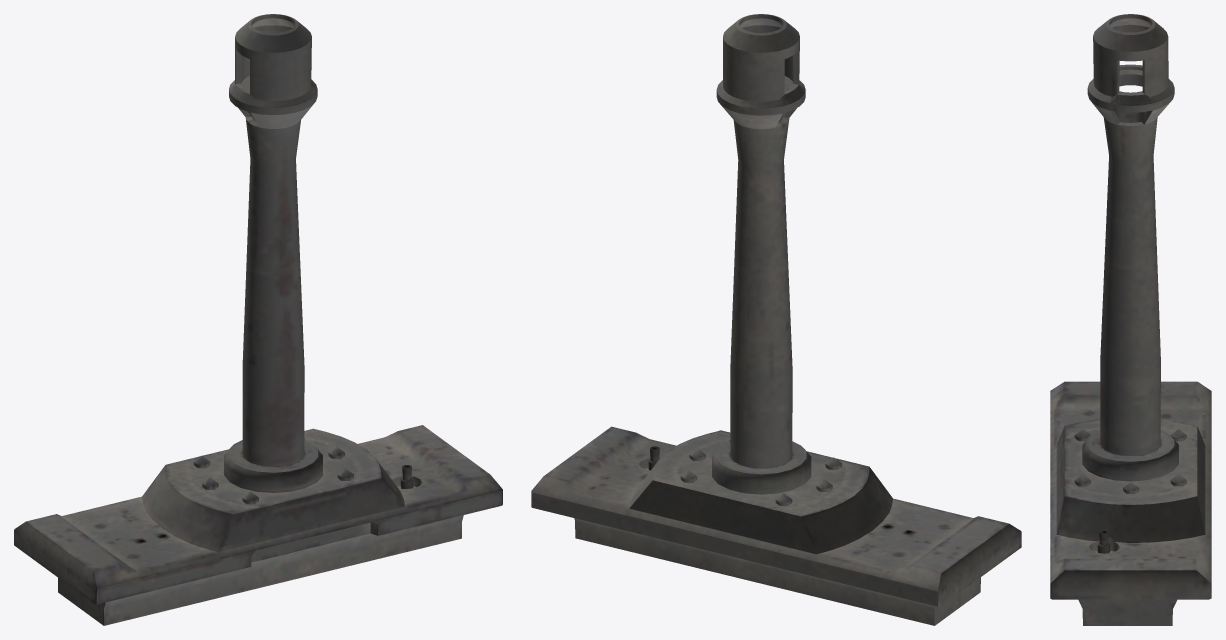
Rendered from Gun_04.glb.
3 renders of one model, left to right at view 1: azimuth 30°, elevation 25°; view 2: azimuth 150°, elevation 25°; view 3: azimuth 270°, elevation 25°, orthographic. The views are drawn at different scales.
Visible parts, largest first — view 1: set_0_group_0; view 2: set_0_group_0; view 3: set_0_group_0.
Part boxes in pixels (x1,y1,x2,y2): set_0_group_0: [14, 14, 502, 625]; set_0_group_0: [531, 14, 1021, 625]; set_0_group_0: [1050, 14, 1211, 625].
Size of the model in its own units: 1.6 by 2.01 by 0.5606.
1 material, 1 textured.
